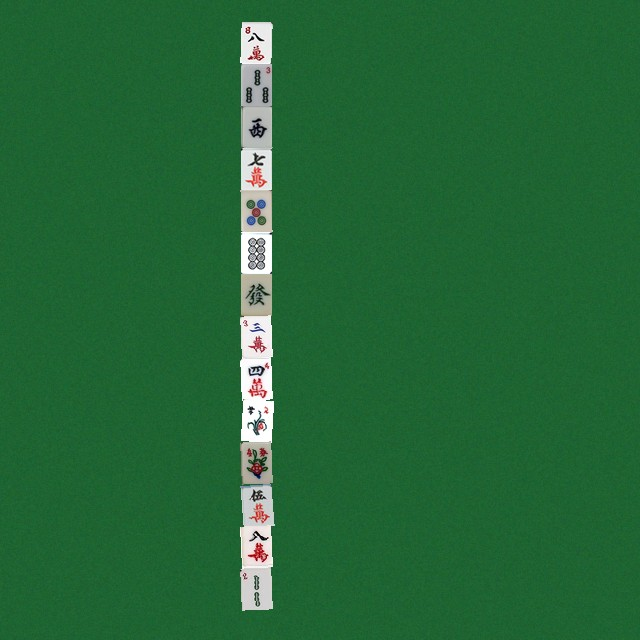tile: (240, 21, 271, 63), (240, 63, 271, 105), (240, 105, 271, 147), (240, 147, 271, 189), (240, 189, 271, 231), (240, 231, 271, 273), (240, 273, 271, 315), (240, 315, 271, 357), (240, 357, 271, 399), (240, 399, 271, 441), (240, 441, 271, 483), (240, 483, 271, 525), (240, 525, 271, 567), (240, 567, 271, 609)
